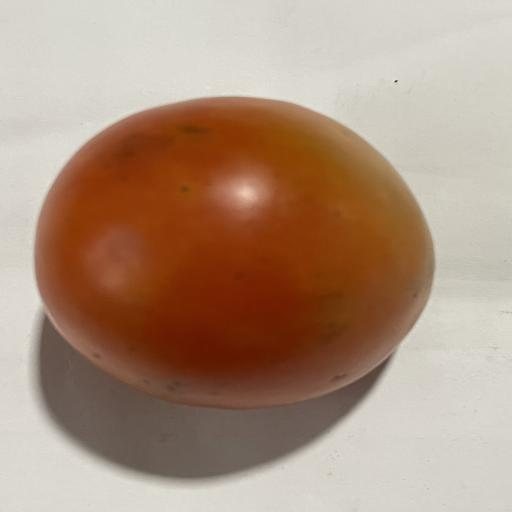overipe: (35, 97, 434, 408)
ripe: (35, 97, 434, 408)
